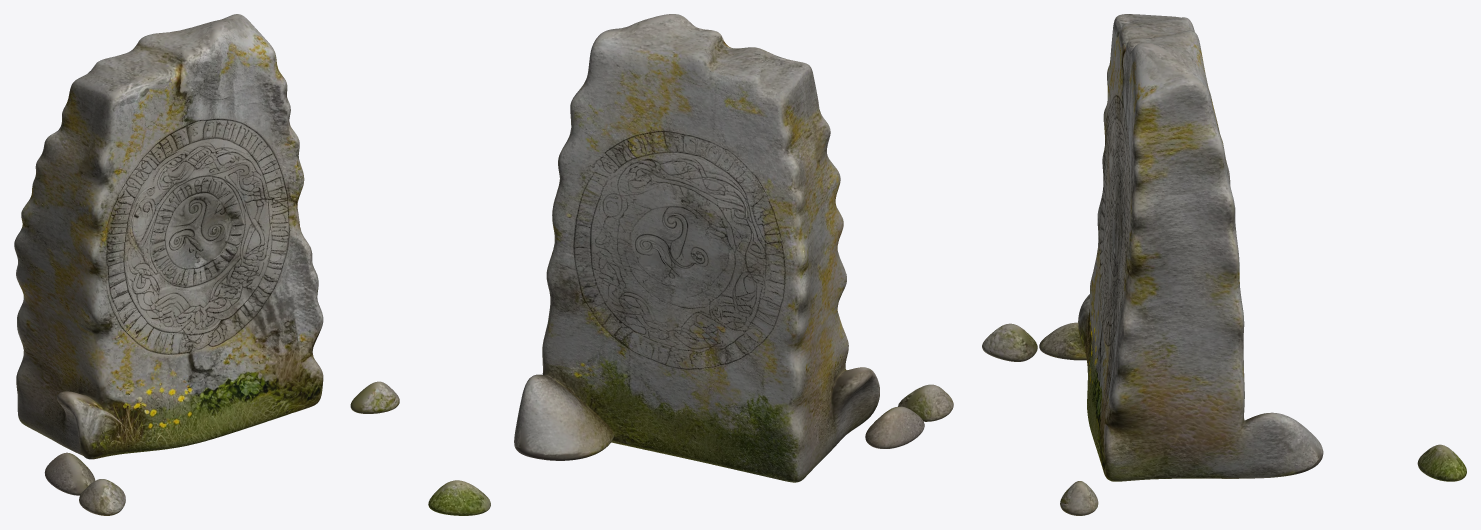
Rendered from batu-rune.glb.
The picture shows the model from 3 angles, left to right: view 1: azimuth 30°, elevation 25°; view 2: azimuth 150°, elevation 25°; view 3: azimuth 270°, elevation 25°; orthographic projection. The views are drawn at different scales.
Visible parts, largest first — view 1: geometry_0; view 2: geometry_0; view 3: geometry_0.
Boxes of the visible parts, x1=… form: geometry_0: x1=14, y1=14, x2=399, y2=515; geometry_0: x1=428, y1=14, x2=953, y2=515; geometry_0: x1=982, y1=14, x2=1466, y2=515.
Size of the model in its own units: 0.6588 by 0.6998 by 0.7696.
Materials: 1 (1 with a texture image).
